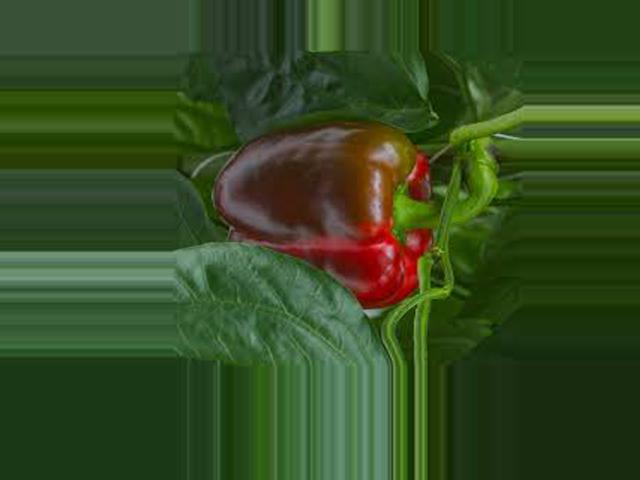bell_pepper: (198, 95, 460, 316)
